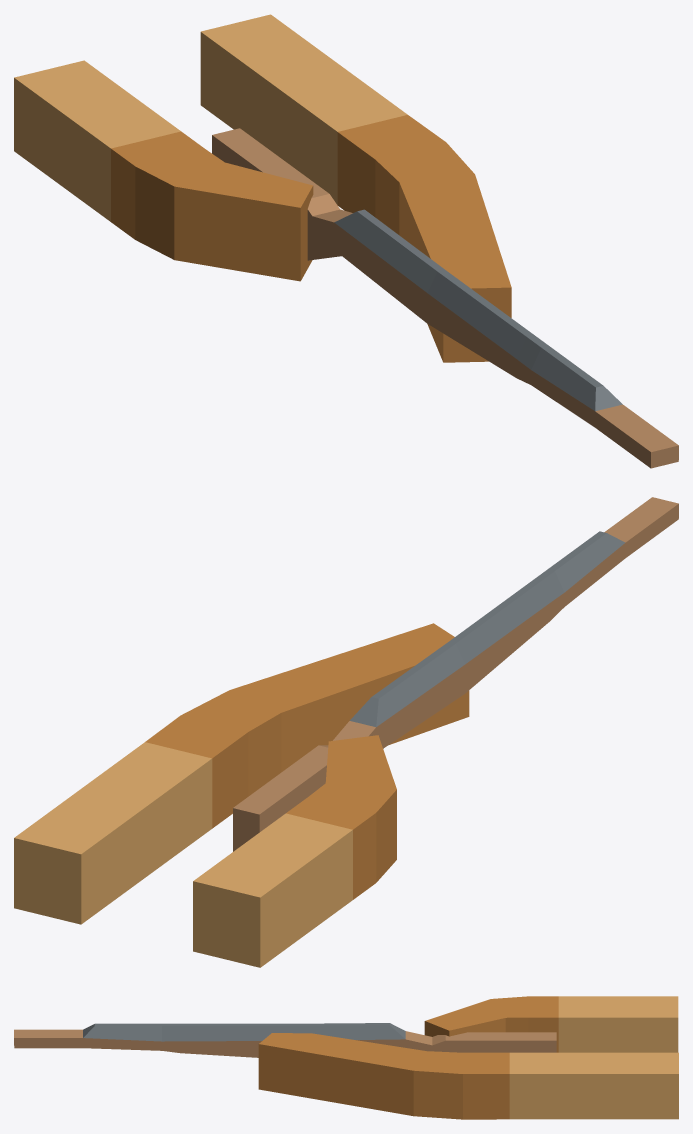
Rendered from senjataBelanda.fbx.
3 renders of one model, top to bottom at view 1: azimuth 30°, elevation 25°; view 2: azimuth 150°, elevation 25°; view 3: azimuth 270°, elevation 25°, orthographic. The views are drawn at different scales.
Parts seen in each view (by area): view 1: Cube.001, Cube, Cube.002; view 2: Cube.001, Cube, Cube.002; view 3: Cube.001, Cube.002, Cube.
Part boxes in pixels (left/top/right/bottom): Cube.001: left=200, top=14, right=511, bottom=362; Cube: left=14, top=60, right=313, bottom=281; Cube.002: left=212, top=128, right=678, bottom=468; Cube.001: left=14, top=623, right=469, bottom=924; Cube: left=193, top=735, right=396, bottom=967; Cube.002: left=233, top=497, right=678, bottom=851; Cube.001: left=258, top=1033, right=678, bottom=1119; Cube.002: left=14, top=1023, right=556, bottom=1057; Cube: left=424, top=996, right=678, bottom=1052.
Bounding box in the file's own units: 183 × 663 × 63.53.
